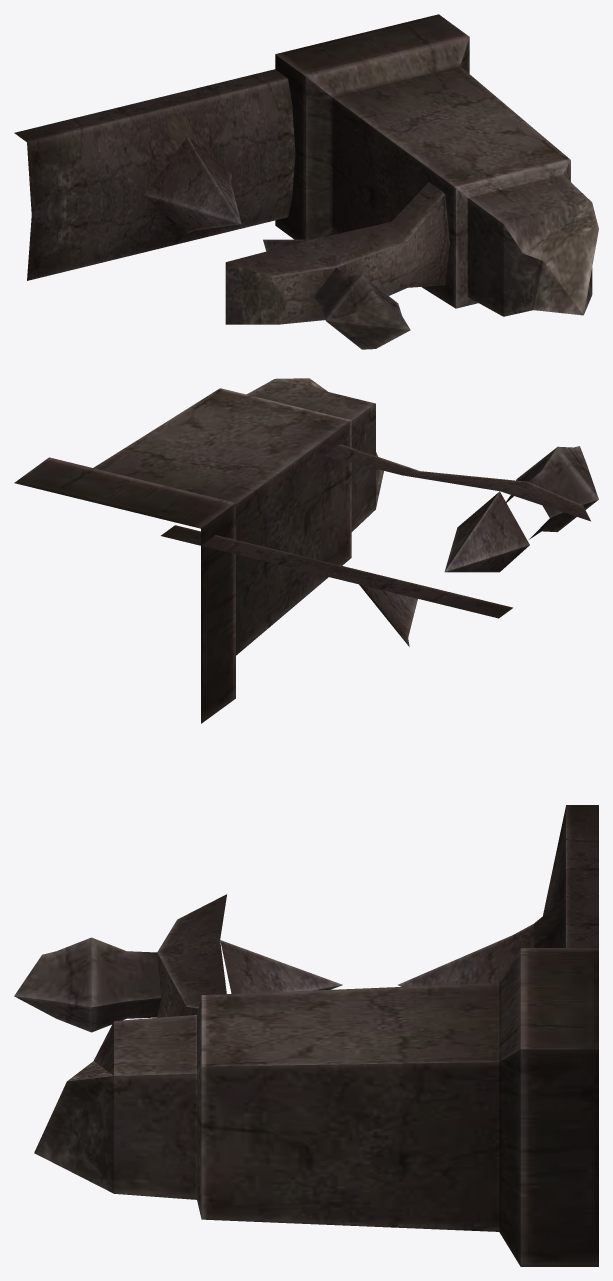
3 renders of one model, top to bottom at view 1: azimuth 30°, elevation 25°; view 2: azimuth 150°, elevation 25°; view 3: azimuth 270°, elevation 25°, orthographic. The views are drawn at different scales.
Parts seen in each view (by area): view 1: model_Object46; view 2: model_Object46; view 3: model_Object46.
Part boxes in pixels (box(x1,y1,x2,y2)): model_Object46: box(14, 14, 598, 349); model_Object46: box(14, 378, 598, 723); model_Object46: box(14, 805, 598, 1266).
Bounding box in the file's own units: 2.25 × 0.8659 × 2.11.
1 material, 1 textured.
